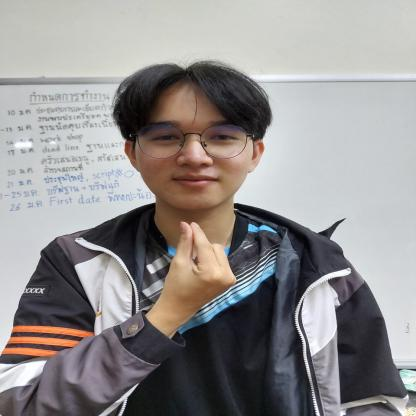Hungry: (134, 218, 264, 343)
